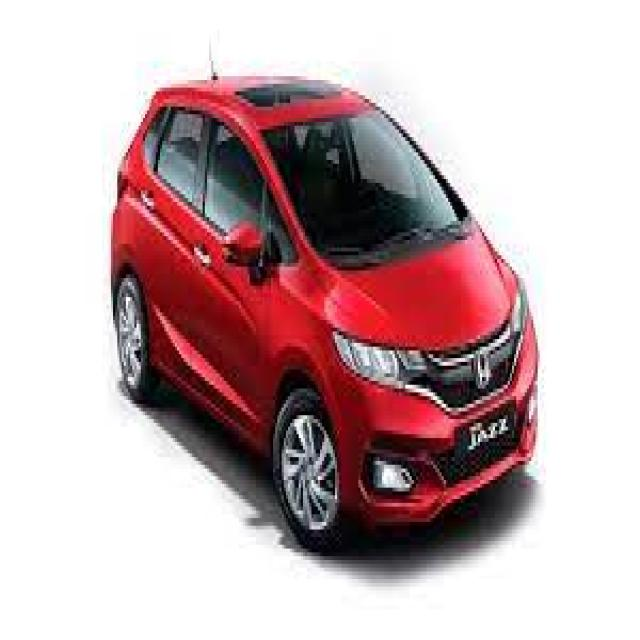car: (110, 33, 544, 567)
